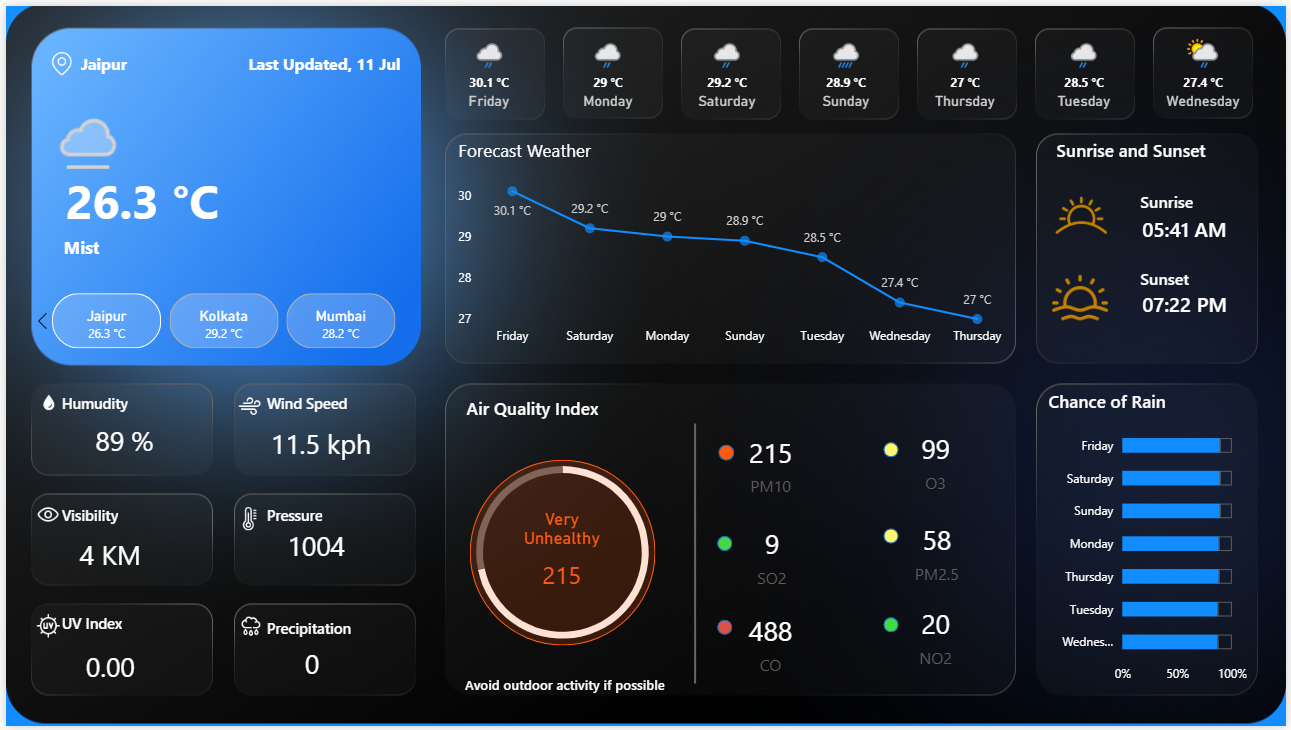

What the dashboard file says about the page in this screenshot:
{"tool":"powerbi","page":{"name":"Page 1","canvas":[1280,720],"ordinal":0},"visuals":[{"type":"donutChart","fields":{"Y":["Sum(Current.current.air_quality.pm10)","_Measure.Left_Value_PM10"]},"box":[444.3,434.3,225.7,225.7],"z":0},{"type":"shape","box":[464.3,454.3,185.7,185.7],"z":1000},{"type":"advancedSlicerVisual","fields":{"Values":["Location.location.name"]},"box":[21.4,282.9,395.7,65.7],"z":2000},{"type":"shape","box":[54.8,157.3,205,65],"z":3000},{"type":"shape","box":[54.8,222.3,368.1,36.1],"z":4000},{"type":"shape","box":[72.2,41.9,85.2,33.2],"z":5000},{"type":"shape","box":[239.6,41.9,160.2,33.2],"z":6000},{"type":"image","box":[36.1,41.9,39,33.2],"z":7000},{"type":"cardVisual","fields":{"Data":["Min(Current.current.condition.icon)"]},"box":[21.7,75.1,108.3,93.8],"z":8000},{"type":"image","box":[21.4,384.3,42.9,25.7],"z":9000},{"type":"shape","box":[54.3,384.3,100,25.7],"z":10000},{"type":"image","box":[14.3,491.4,57.1,34.3],"z":11000},{"type":"shape","box":[54.3,495.7,100,25.7],"z":12000},{"type":"image","box":[18.6,602.9,47.1,34.3],"z":13000},{"type":"shape","box":[54.3,604.3,100,25.7],"z":14000},{"type":"image","box":[220,384.3,47.1,32.9],"z":15000},{"type":"shape","box":[258.6,384.3,100,25.7],"z":16000},{"type":"image","box":[214.3,495.7,60,32.9],"z":17000},{"type":"shape","box":[258.6,495.7,100,25.7],"z":18000},{"type":"image","box":[224.3,604.3,42.9,32.9],"z":19000},{"type":"shape","box":[258.6,608.6,100,25.7],"z":20000},{"type":"card","fields":{"Values":["_Measures.Wind_Speed"]},"box":[258.6,410,112.9,57.1],"z":21000},{"type":"card","fields":{"Values":["_Measures.Visibility"]},"box":[58.6,521.4,91.4,57.1],"z":22000},{"type":"card","fields":{"Values":["Sum(Current.current.uv)"]},"box":[58.6,634.3,91.4,57.1],"z":23000},{"type":"card","fields":{"Values":["Sum(Current.current.precip_in)"]},"box":[262.9,630,87.1,57.1],"z":24000},{"type":"card","fields":{"Values":["_Measures.Humidity"]},"box":[65.7,401.4,104.3,70],"z":25000},{"type":"card","fields":{"Values":["Sum(Current.current.pressure_mb)"]},"box":[262.9,512.9,95.7,57.1],"z":26000},{"type":"advancedSlicerVisual","fields":{"Values":["Forecast_day.Day_Name"]},"box":[422.9,21.4,840,100],"z":27000},{"type":"lineChart","title":"Forecast Weather","fields":{"Y":["Sum(Forecast_day.forecast.forecastday.day.avgtemp_c)"],"Category":["Forecast_day.Day_Name"]},"box":[447.1,132.9,560,215.7],"z":28000},{"type":"shape","box":[1048.6,131.4,157.1,25.7],"z":29000},{"type":"shape","box":[1132.9,195.7,112.9,52.9],"z":30000},{"type":"shape","box":[1132.9,271.4,112.9,52.9],"z":31000},{"type":"shape","box":[1132.9,182.9,100,25.7],"z":32000},{"type":"shape","box":[1132.9,258.6,100,25.7],"z":33000},{"type":"image","box":[1014.3,170,122.9,78.6],"z":34000},{"type":"image","box":[1021.4,258.6,105.7,65.7],"z":35000},{"type":"hundredPercentStackedBarChart","title":"Chance of Rain","fields":{"Y":["Sum(Forecast_day.forecast.forecastday.day.daily_chance_of_rain)","_Measure.Left_Value_Rain"],"Category":["Forecast_day.Day_Name"]},"box":[1037.1,384.3,208.6,302.9],"z":36000},{"type":"shape","box":[458.6,388.6,157.1,25.7],"z":37000},{"type":"card","fields":{"Values":["Sum(Current.current.air_quality.o3)"]},"box":[875.7,417.1,107.1,74.3],"z":38000},{"type":"card","fields":{"Values":["Sum(Current.current.air_quality.pm2_5)"]},"box":[877.1,508.6,107.1,74.3],"z":39000},{"type":"card","fields":{"Values":["Sum(Current.current.air_quality.no2)"]},"box":[875.7,592.9,107.1,74.3],"z":40000},{"type":"card","fields":{"Values":["Sum(Current.current.air_quality.pm10)"]},"box":[711.4,421.4,107.1,74.3],"z":41000},{"type":"card","fields":{"Values":["Sum(Current.current.air_quality.co)"]},"box":[711.4,600,107.1,74.3],"z":42000},{"type":"card","fields":{"Values":["Sum(Current.current.air_quality.so2)"]},"box":[712.9,512.9,107.1,74.3],"z":43000},{"type":"shape","box":[712.9,438.6,15.7,15.7],"z":44000},{"type":"shape","box":[711.4,614.3,15,15],"z":45000},{"type":"shape","box":[711.4,530,15,15],"z":46000},{"type":"shape","box":[877.1,611.4,15,15],"z":47000},{"type":"shape","box":[877.1,522.9,15,15],"z":48000},{"type":"shape","box":[877.1,435.7,15,15],"z":49000},{"type":"shape","box":[681.4,417.1,15.7,260],"z":50000},{"type":"card","fields":{"Values":["Sum(Current.current.air_quality.pm10)"]},"box":[494.3,502.9,124.3,97.1],"z":51000},{"type":"shape","box":[447.1,654.3,222.9,50],"z":52000}]}

Visuals, with their boxes in screenshot pixels (x1, y1, x2, y2), scaled from the page's 1280x720 canvas onto the 1291x730 screenshot:
donutChart - Sum(Current.current.air_quality.pm10) x _Measure.Left_Value_PM10: Rect(448, 440, 676, 669)
shape: Rect(468, 461, 656, 649)
advancedSlicerVisual - Location.location.name: Rect(22, 287, 421, 353)
shape: Rect(55, 159, 262, 225)
shape: Rect(55, 225, 427, 262)
shape: Rect(73, 42, 159, 76)
shape: Rect(242, 42, 403, 76)
image: Rect(36, 42, 76, 76)
cardVisual - Min(Current.current.condition.icon): Rect(22, 76, 131, 171)
image: Rect(22, 390, 65, 416)
shape: Rect(55, 390, 156, 416)
image: Rect(14, 498, 72, 533)
shape: Rect(55, 503, 156, 529)
image: Rect(19, 611, 66, 646)
shape: Rect(55, 613, 156, 639)
image: Rect(222, 390, 269, 423)
shape: Rect(261, 390, 362, 416)
image: Rect(216, 503, 277, 536)
shape: Rect(261, 503, 362, 529)
image: Rect(226, 613, 269, 646)
shape: Rect(261, 617, 362, 643)
card - _Measures.Wind_Speed: Rect(261, 416, 375, 474)
card - _Measures.Visibility: Rect(59, 529, 151, 587)
card - Sum(Current.current.uv): Rect(59, 643, 151, 701)
card - Sum(Current.current.precip_in): Rect(265, 639, 353, 697)
card - _Measures.Humidity: Rect(66, 407, 171, 478)
card - Sum(Current.current.pressure_mb): Rect(265, 520, 362, 578)
advancedSlicerVisual - Forecast_day.Day_Name: Rect(427, 22, 1274, 123)
"Forecast Weather" lineChart: Rect(451, 135, 1016, 353)
shape: Rect(1058, 133, 1216, 159)
shape: Rect(1143, 198, 1257, 252)
shape: Rect(1143, 275, 1257, 329)
shape: Rect(1143, 185, 1243, 211)
shape: Rect(1143, 262, 1243, 288)
image: Rect(1023, 172, 1147, 252)
image: Rect(1030, 262, 1137, 329)
"Chance of Rain" hundredPercentStackedBarChart: Rect(1046, 390, 1256, 697)
shape: Rect(463, 394, 621, 420)
card - Sum(Current.current.air_quality.o3): Rect(883, 423, 991, 498)
card - Sum(Current.current.air_quality.pm2_5): Rect(885, 516, 993, 591)
card - Sum(Current.current.air_quality.no2): Rect(883, 601, 991, 676)
card - Sum(Current.current.air_quality.pm10): Rect(718, 427, 826, 503)
card - Sum(Current.current.air_quality.co): Rect(718, 608, 826, 684)
card - Sum(Current.current.air_quality.so2): Rect(719, 520, 827, 595)
shape: Rect(719, 445, 735, 461)
shape: Rect(718, 623, 733, 638)
shape: Rect(718, 537, 733, 553)
shape: Rect(885, 620, 900, 635)
shape: Rect(885, 530, 900, 545)
shape: Rect(885, 442, 900, 457)
shape: Rect(687, 423, 703, 687)
card - Sum(Current.current.air_quality.pm10): Rect(499, 510, 624, 608)
shape: Rect(451, 663, 676, 714)
